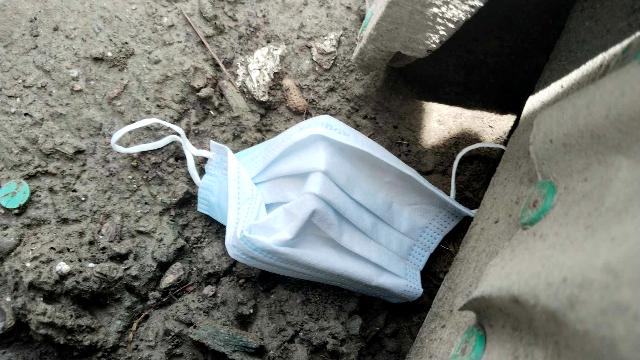mask: (108, 79, 541, 320)
